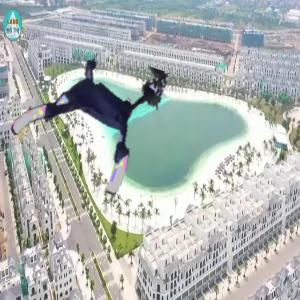drone: (18, 49, 154, 185)
